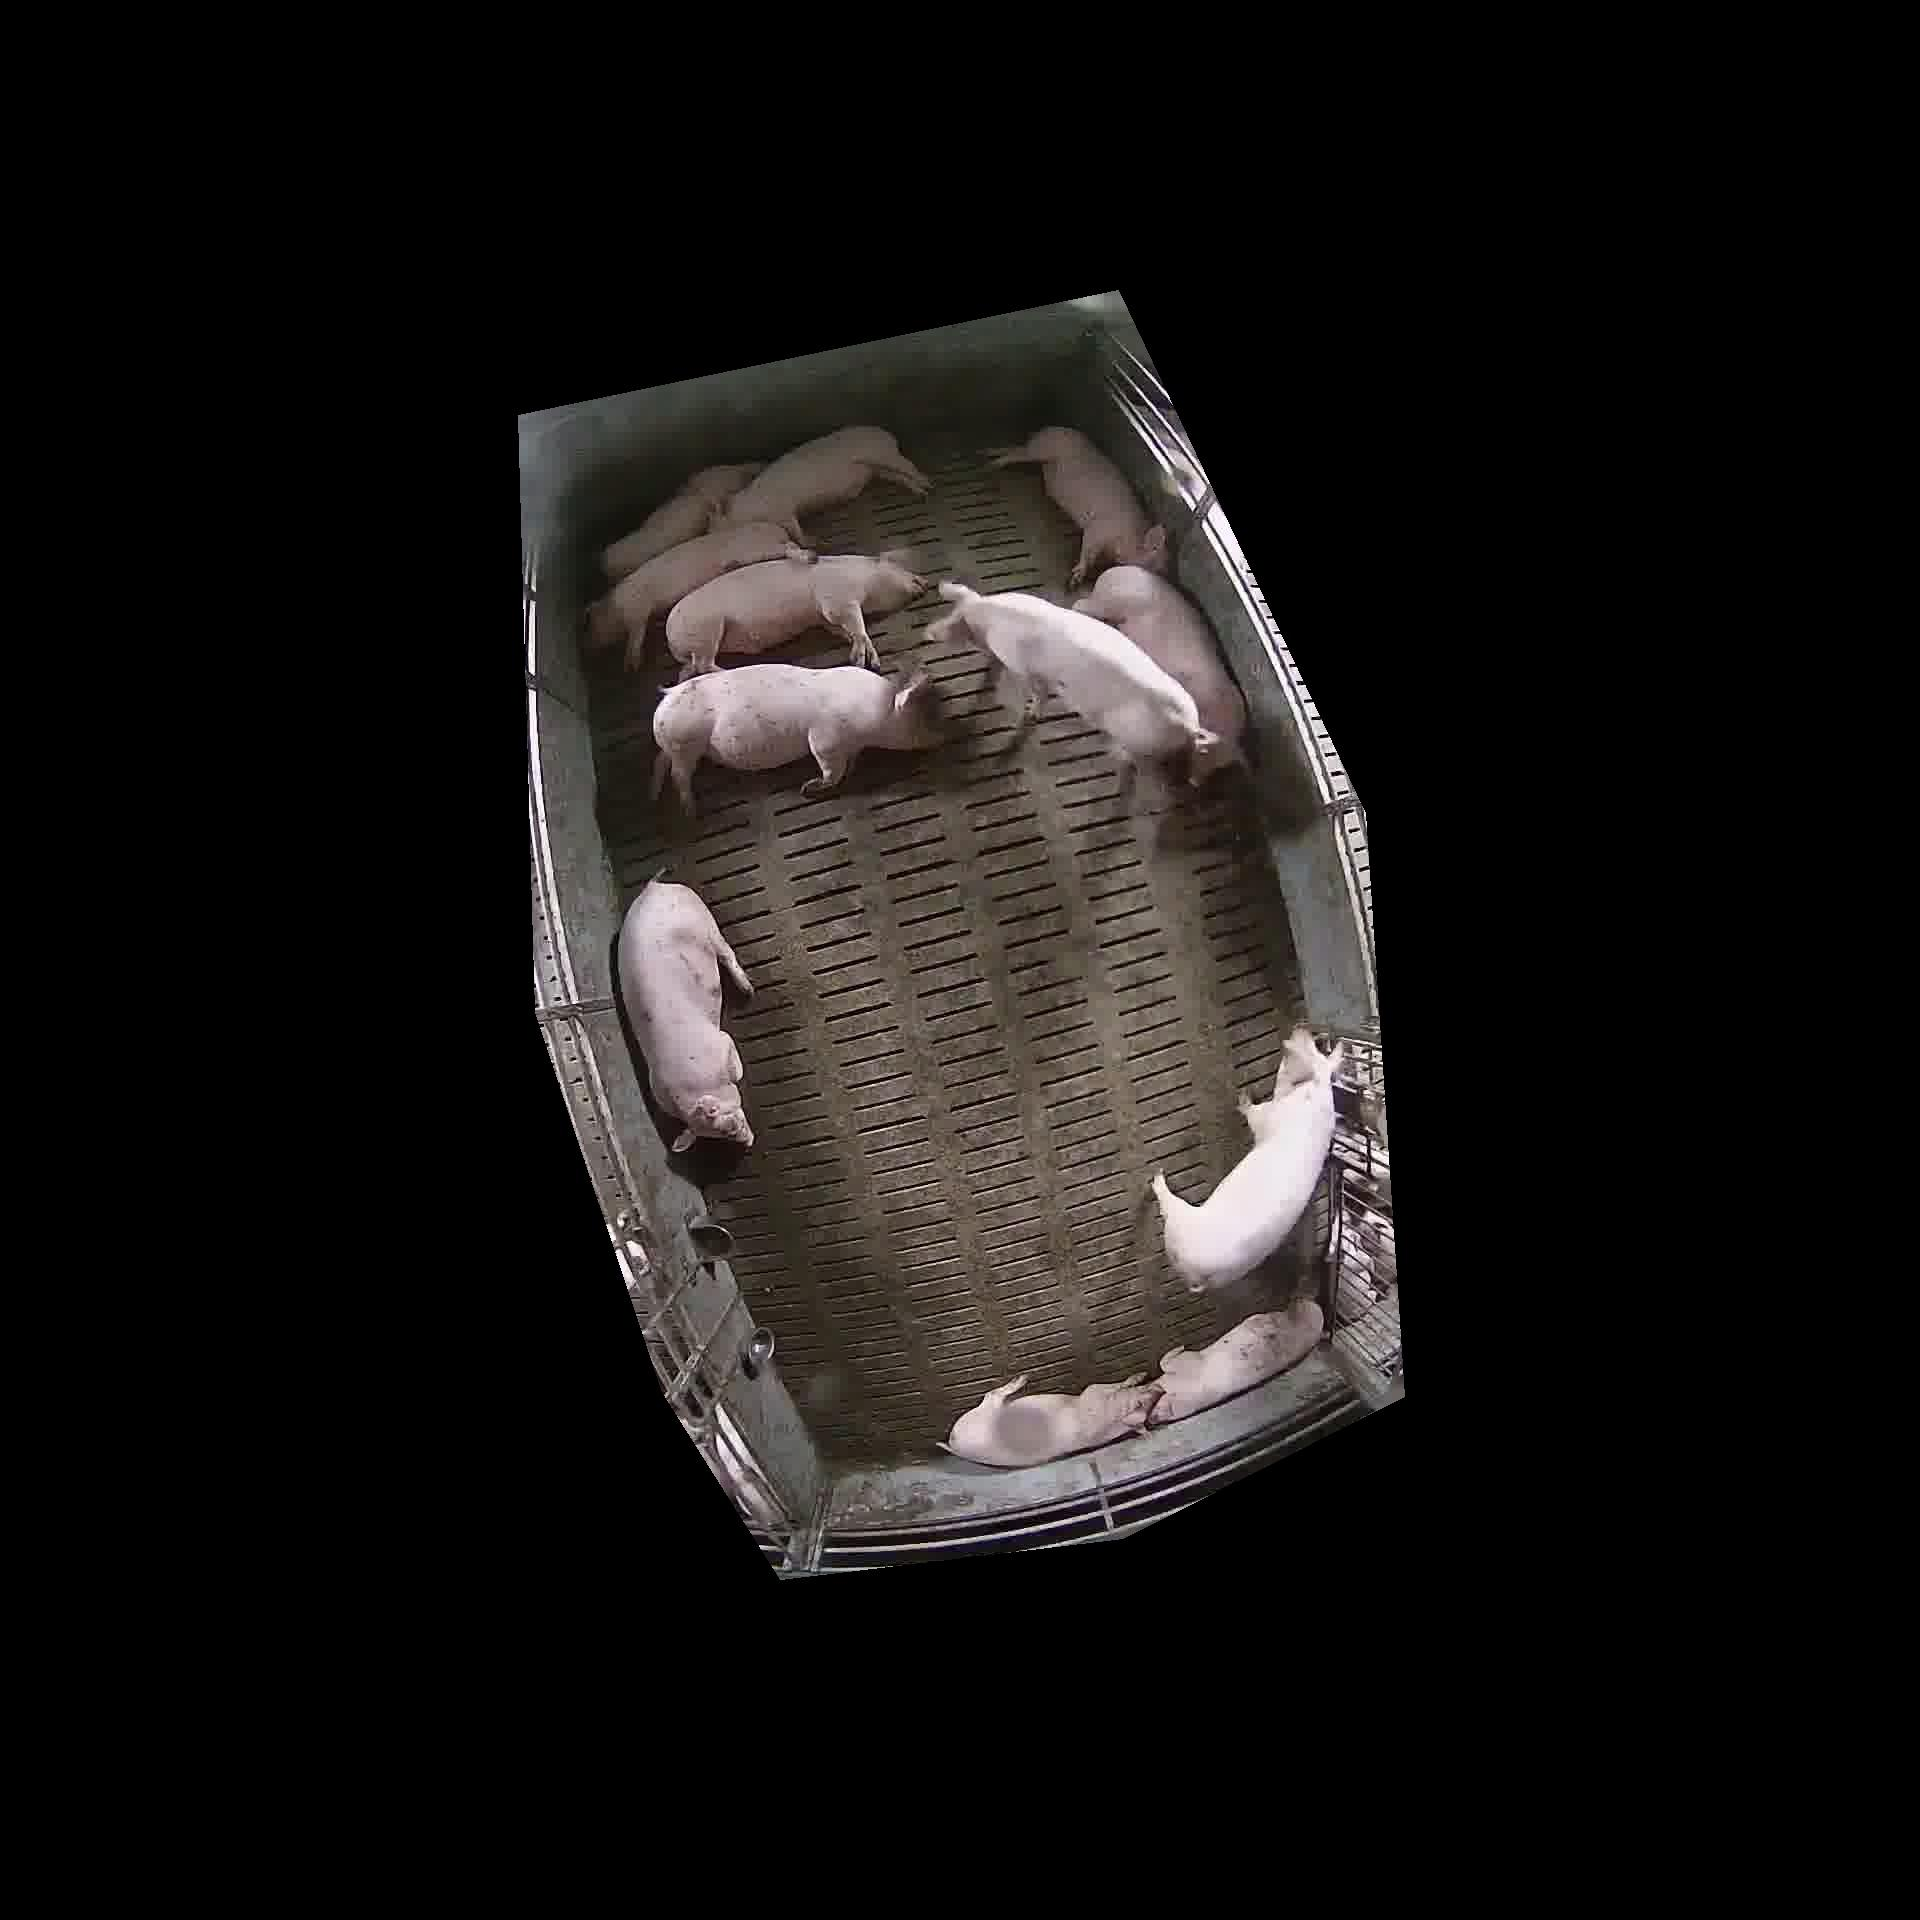pig: (925, 582, 1215, 760), (1152, 1027, 1342, 1291), (652, 665, 942, 812), (1073, 563, 1245, 782), (617, 879, 753, 1152), (587, 522, 805, 668), (666, 556, 927, 677), (990, 425, 1167, 585), (717, 425, 930, 542), (1148, 1298, 1322, 1422), (948, 1375, 1160, 1466), (601, 462, 761, 580)
